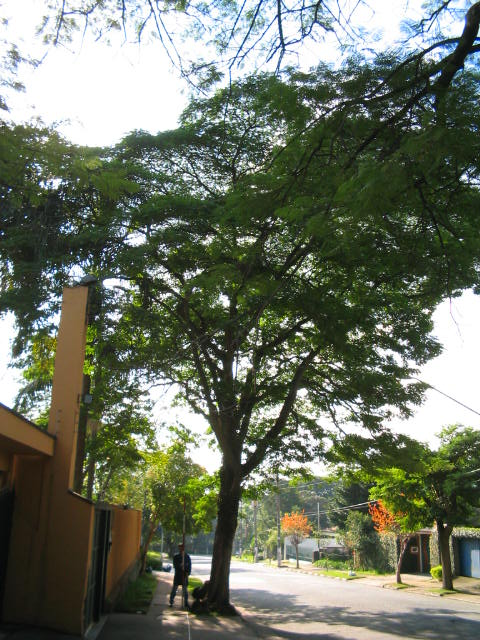crown: (2, 53, 478, 461)
stem: (195, 471, 253, 614)
stick: (171, 494, 195, 609)
tree: (1, 52, 480, 615), (328, 431, 480, 591)
